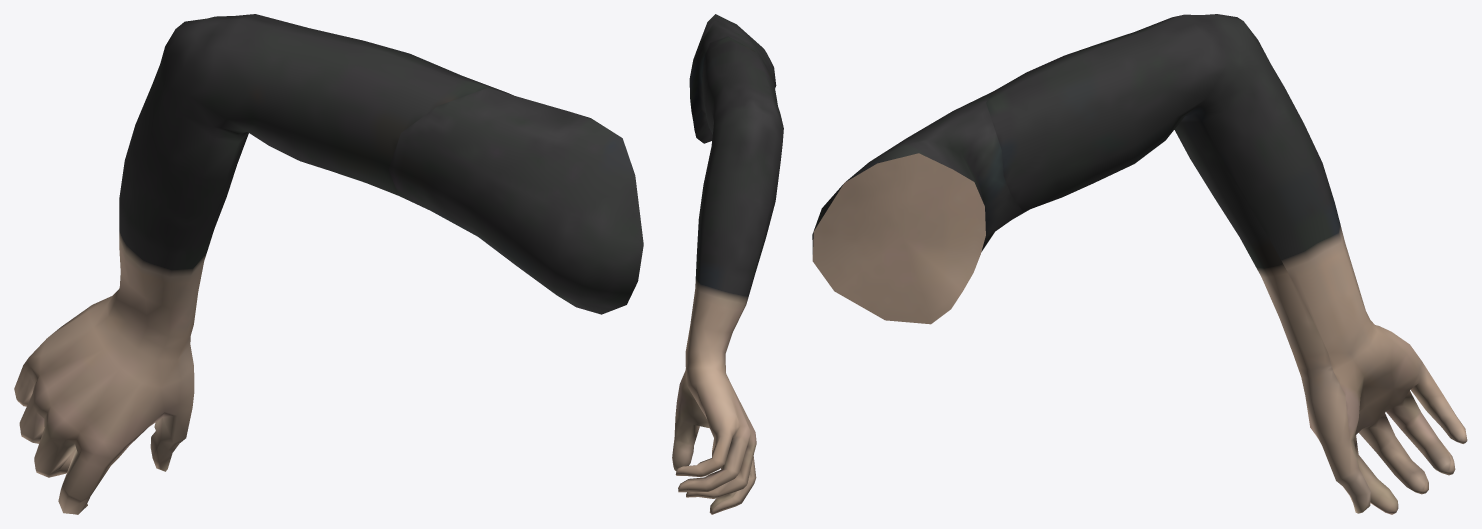
Rendered from dest_nt_nuked_female_03_arm_right_LOD0.obj.
The picture shows the model from 3 angles, left to right: view 1: azimuth 30°, elevation 25°; view 2: azimuth 150°, elevation 25°; view 3: azimuth 270°, elevation 25°; orthographic projection. The views are drawn at different scales.
Parts seen in each view (by area): view 1: mtl_nt_2020_manne_fem01_head2; view 2: mtl_nt_2020_manne_fem01_head2; view 3: mtl_nt_2020_manne_fem01_head2.
Part boxes in pixels (box(x1,y1,x2,y2)): mtl_nt_2020_manne_fem01_head2: box(14, 14, 643, 514); mtl_nt_2020_manne_fem01_head2: box(672, 14, 783, 514); mtl_nt_2020_manne_fem01_head2: box(812, 14, 1467, 514).
Size of the model in its own units: 24.08 by 40.23 by 45.59.
